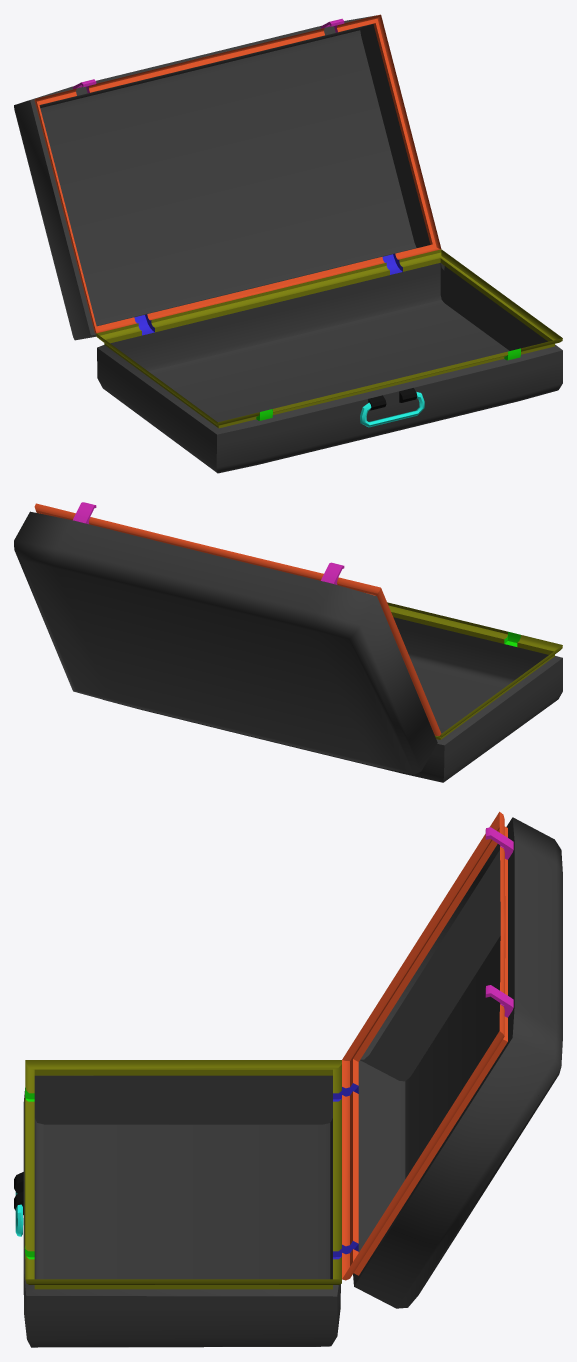
The model's file is Luggage 01.FBX.
3 renders of one model, top to bottom at view 1: azimuth 30°, elevation 25°; view 2: azimuth 150°, elevation 25°; view 3: azimuth 270°, elevation 25°, orthographic. The views are drawn at different scales.
Visible parts, largest first — view 1: Box001; view 2: Box001; view 3: Box001.
Boxes of the visible parts, x1=… form: Box001: x1=14, y1=14, x2=562, y2=473; Box001: x1=14, y1=502, x2=562, y2=782; Box001: x1=14, y1=811, x2=562, y2=1347.
Size of the model in its own units: 52.16 by 36.65 by 54.72.
